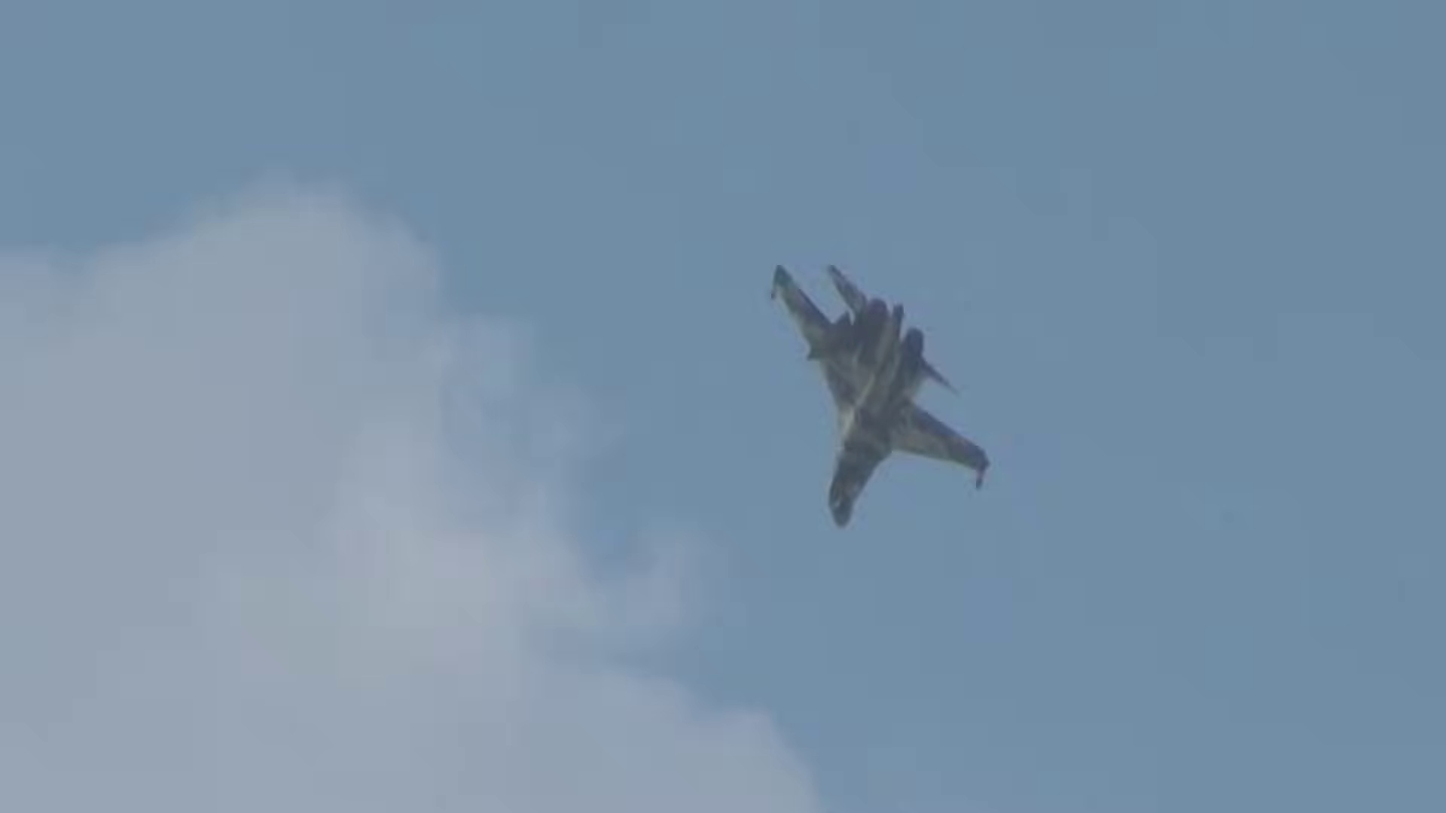Su35: (764, 254, 993, 532)
